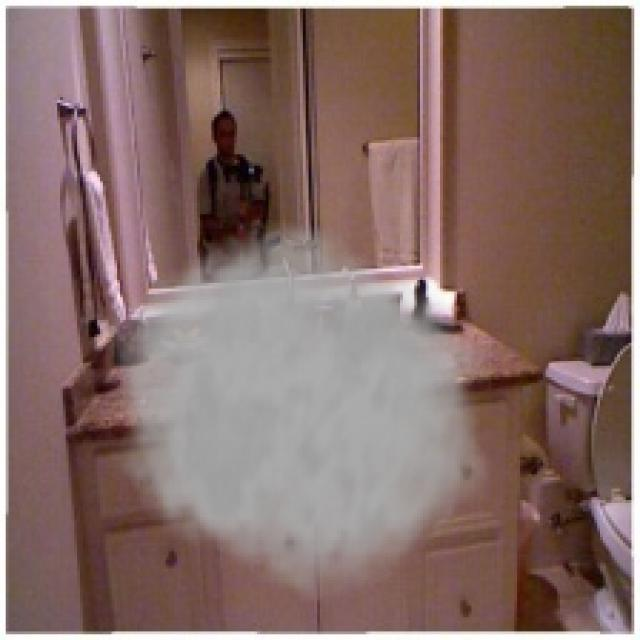smoke: (94, 212, 492, 612)
